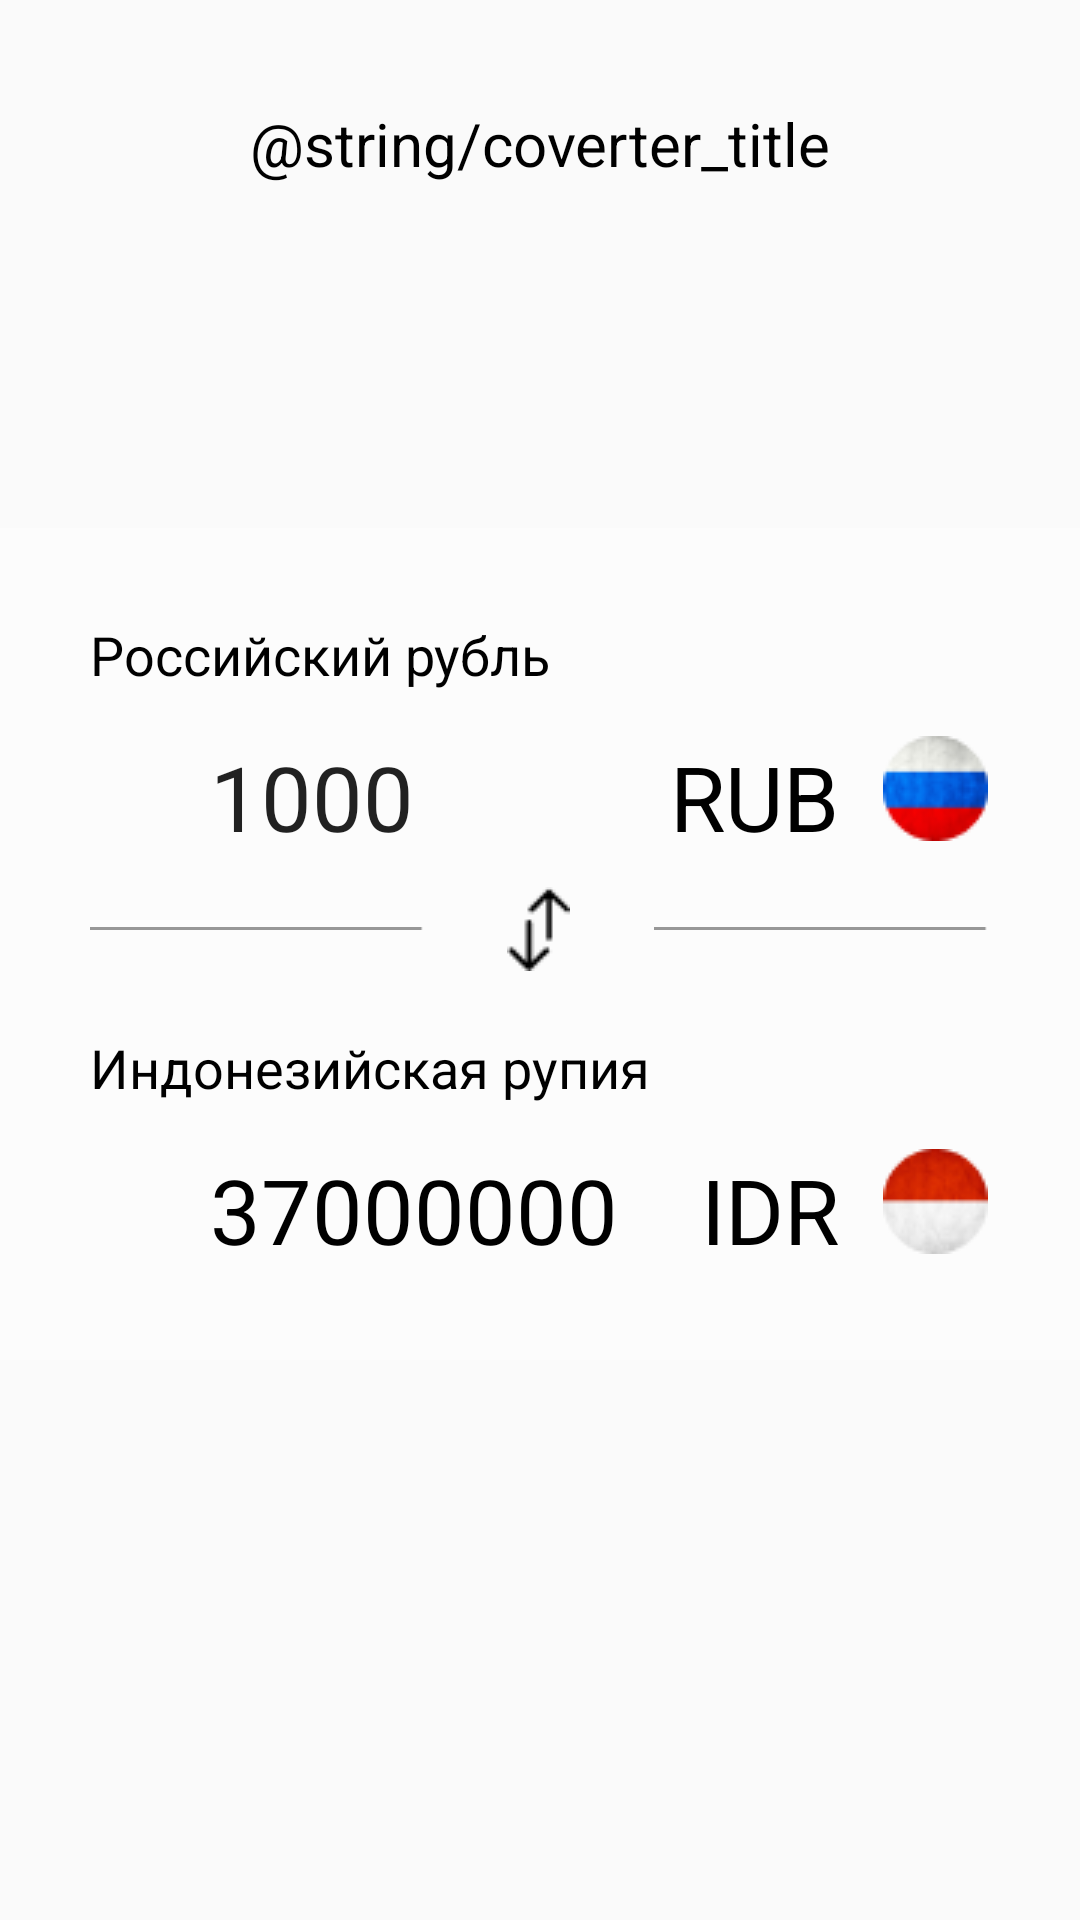

Named icons in this screenshot (1080w x 1920h) and their centers, (x=x, y=y):
double arrow: (x=538, y=930)
